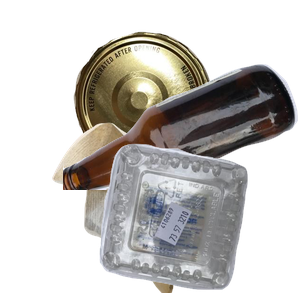glass: (63, 62, 300, 242)
metal: (71, 29, 276, 193)
plastic: (97, 141, 300, 300)
trash: (50, 120, 219, 300)
